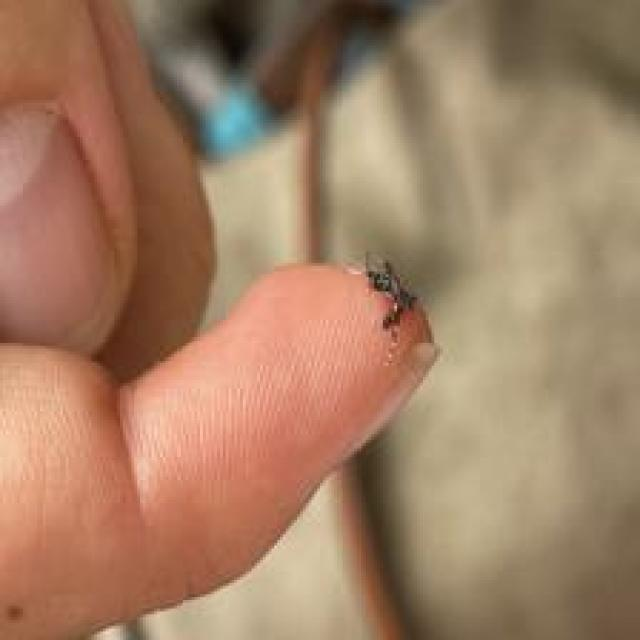Aedes albopictus: (362, 249, 418, 334)
